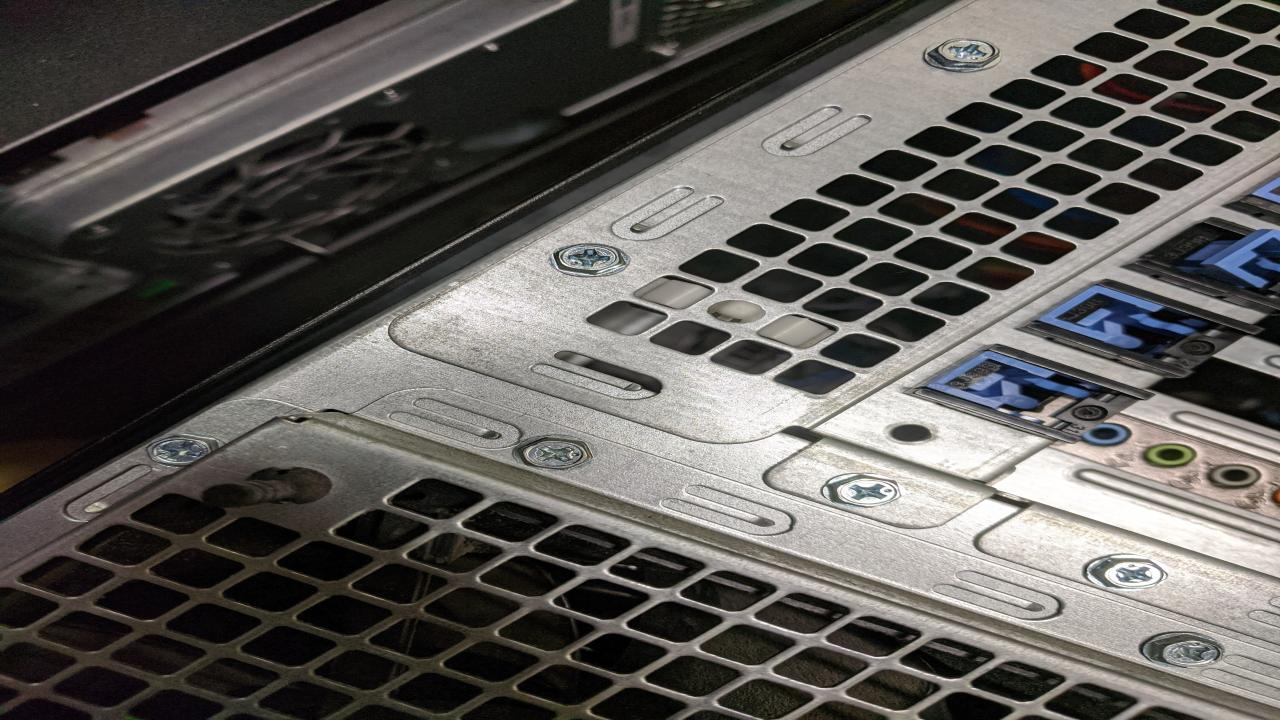CRS: (1084, 555, 1183, 592), (911, 38, 1004, 71), (546, 243, 630, 278), (1139, 631, 1221, 666), (511, 438, 595, 472), (144, 436, 224, 467), (823, 476, 896, 508)
